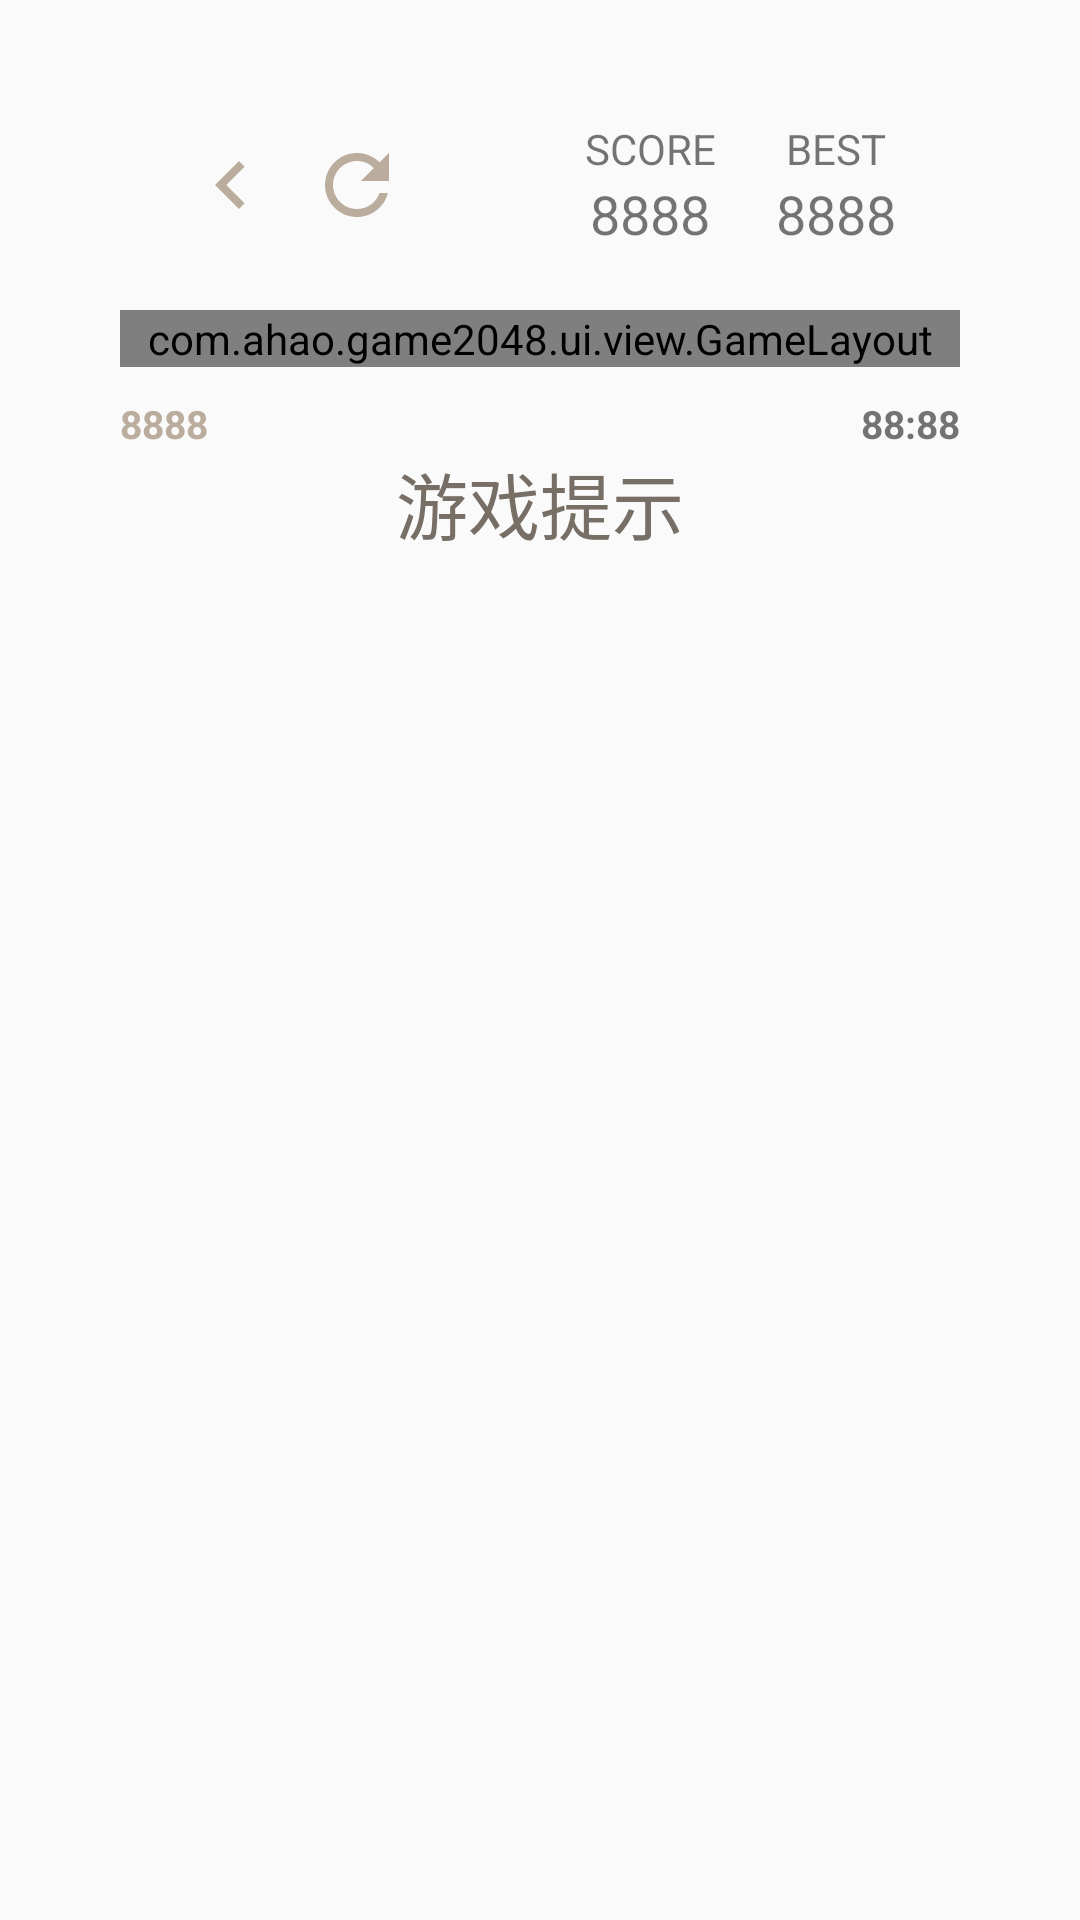

Icons on this 1080w x 1920h Android screen, each with its box as (x1=x1, y1=y1, x2=x2, y2=y2):
chevron left: (x1=215, y1=161, x2=245, y2=209)
refresh: (x1=325, y1=153, x2=389, y2=217)
